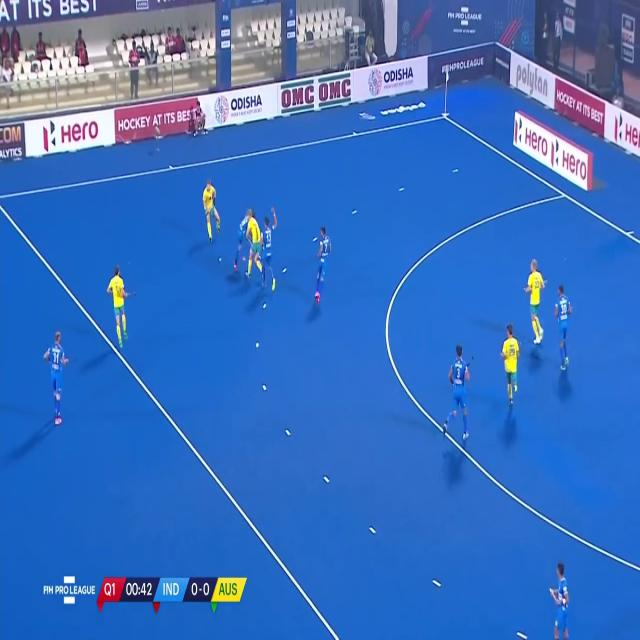ball: (217, 256, 223, 264)
